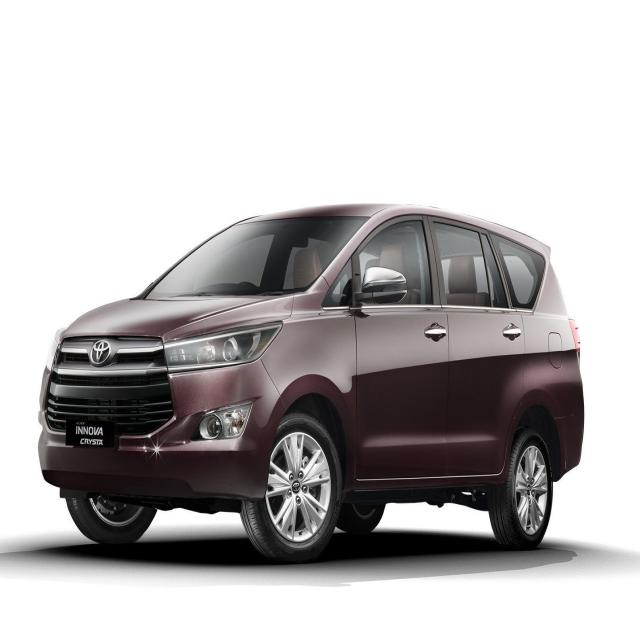light_vehicle: (37, 203, 586, 563)
